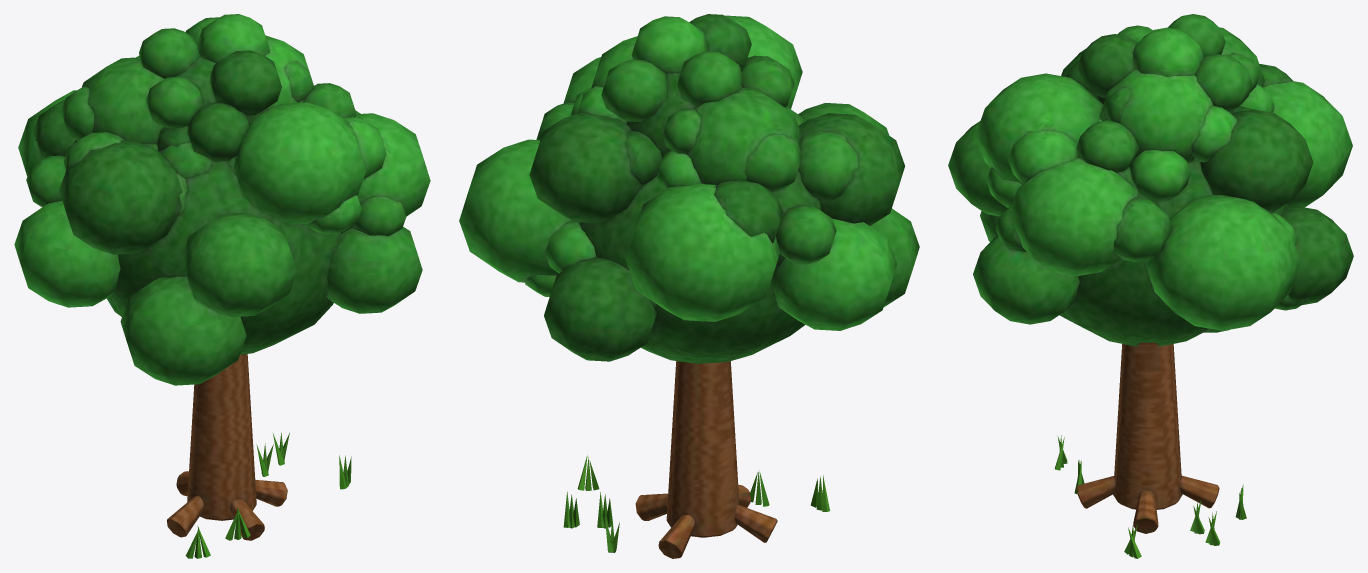
File: citron_tree.glb
3 renders of one model, left to right at view 1: azimuth 30°, elevation 25°; view 2: azimuth 150°, elevation 25°; view 3: azimuth 270°, elevation 25°, orthographic. The views are drawn at different scales.
Visible parts, largest first — view 1: crown, citron_tree; view 2: crown, citron_tree; view 3: crown, citron_tree.
Part boxes in pixels (x1,y1,x2,y2): crown: (14,14,430,385); citron_tree: (167,354,351,558); crown: (459,14,919,363); citron_tree: (563,361,829,558); crown: (948,14,1353,346); citron_tree: (1054,342,1246,558).
Bounding box in the file's own units: 1.11 × 1.38 × 1.04.
1 material, 1 textured.
